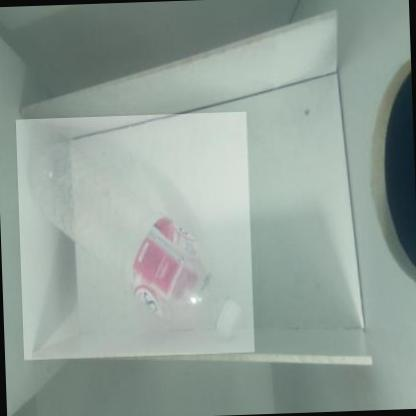plastic_bottles: (16, 112, 254, 360)
